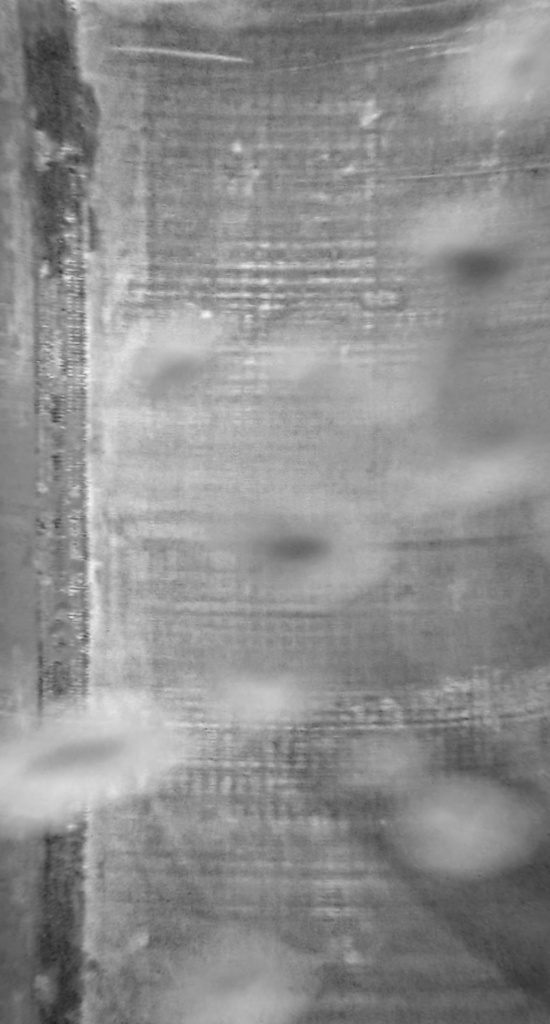splice: (13, 2, 110, 1024)
